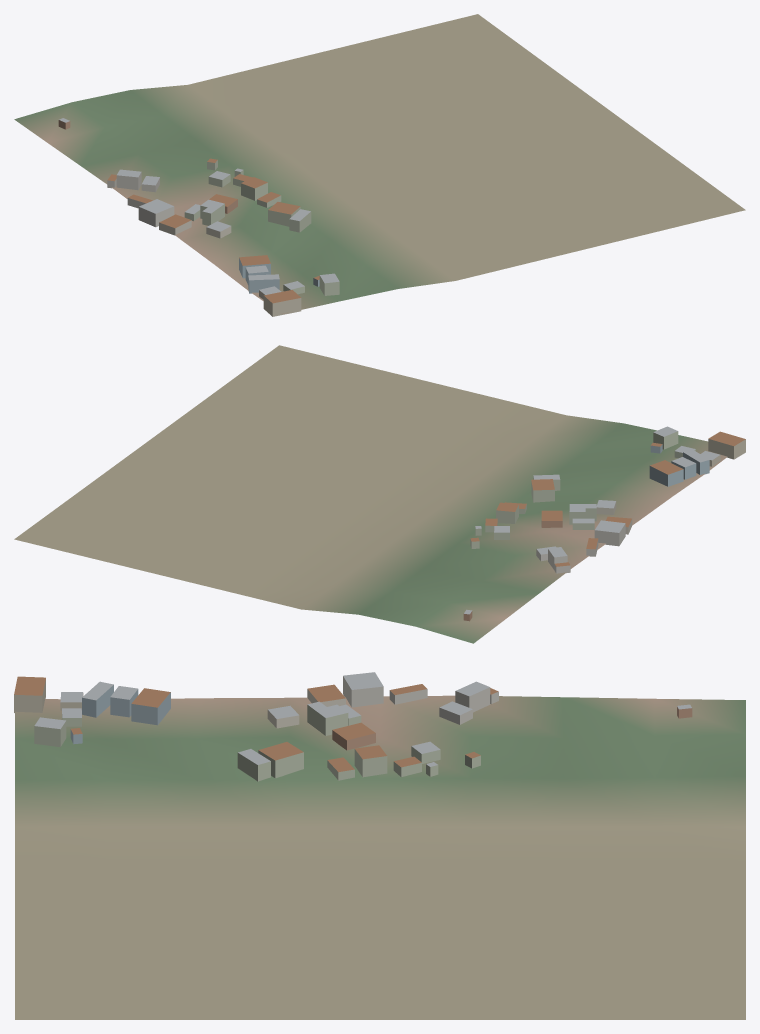
3 renders of one model, top to bottom at view 1: azimuth 30°, elevation 25°; view 2: azimuth 150°, elevation 25°; view 3: azimuth 270°, elevation 25°, orthographic. The views are drawn at different scales.
Parts seen in each view (by area): view 1: Lo; view 2: Lo; view 3: Lo.
Boxes of the visible parts, x1=… form: Lo: x1=14, y1=14, x2=745, y2=316; Lo: x1=14, y1=345, x2=745, y2=643; Lo: x1=14, y1=672, x2=745, y2=1019.
Size of the model in its own units: 262 by 12.32 by 256.
